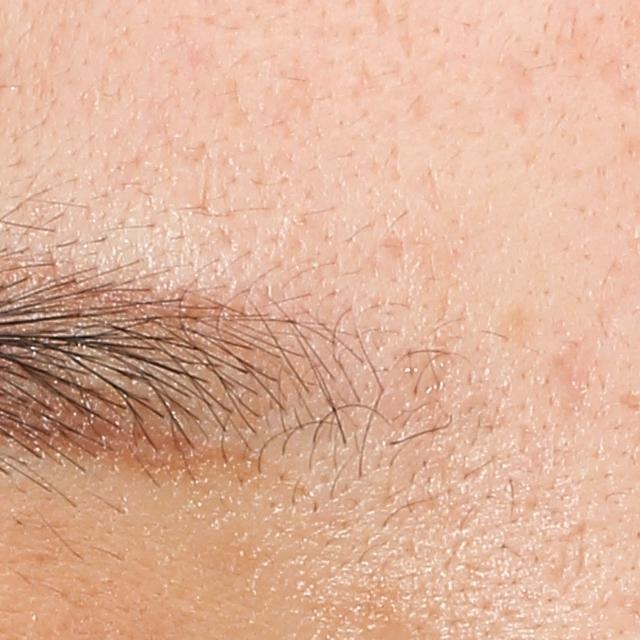atrophic_scar: (542, 342, 590, 419), (548, 525, 583, 591), (513, 99, 533, 135)
